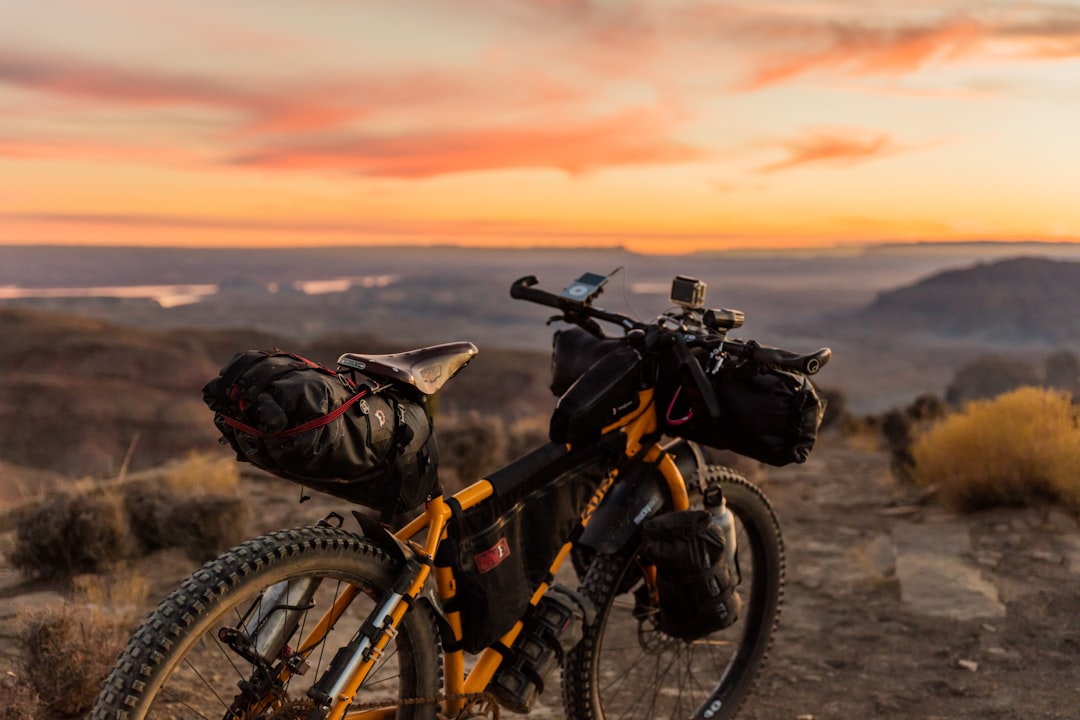bicycle: (92, 268, 832, 720)
